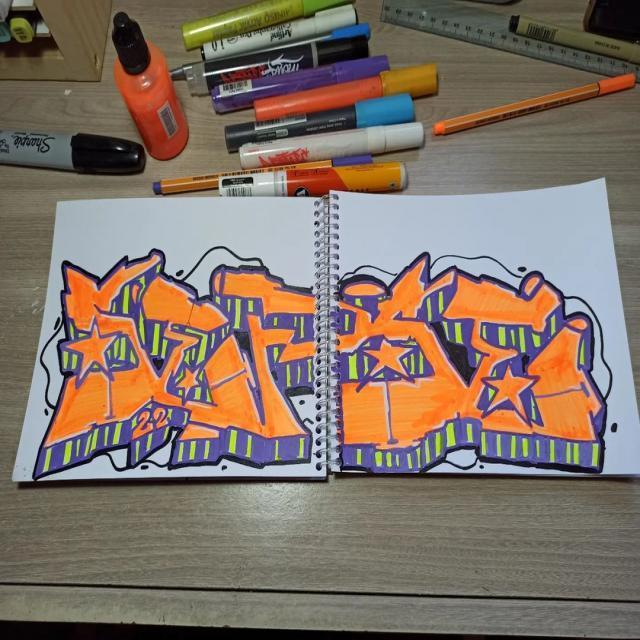-: (27, 220, 320, 480), (334, 246, 616, 484)
